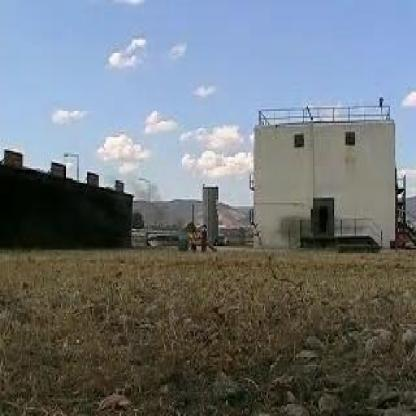-: (166, 208, 184, 234)
foggia-v2-map80-epoch100 - v1 4323: (186, 230, 203, 247)
